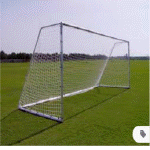goals: (16, 20, 134, 122)
